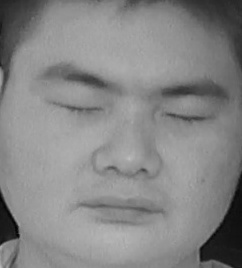blink: (162, 99, 214, 133), (51, 89, 106, 121)
mouth: (79, 185, 163, 232)
